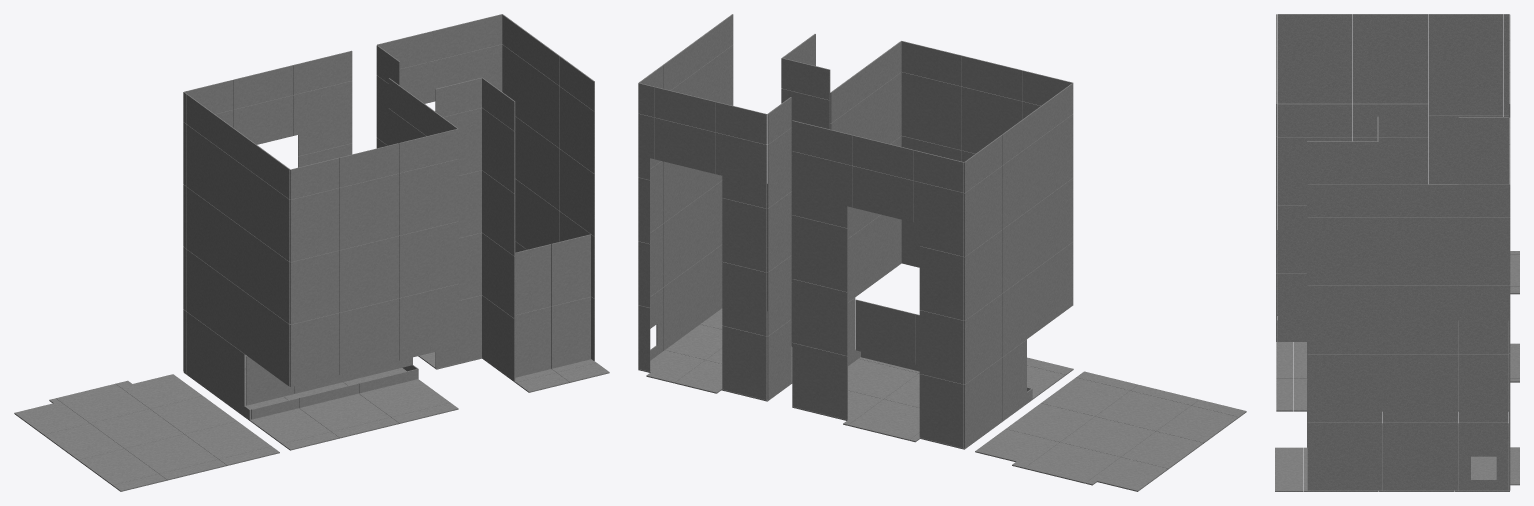
The picture shows the model from 3 angles, left to right: view 1: azimuth 30°, elevation 25°; view 2: azimuth 150°, elevation 25°; view 3: azimuth 270°, elevation 25°; orthographic projection. The views are drawn at different scales.
Size of the model in its own units: 4.93 by 2.71 by 1.96.
1 material, 1 textured.
